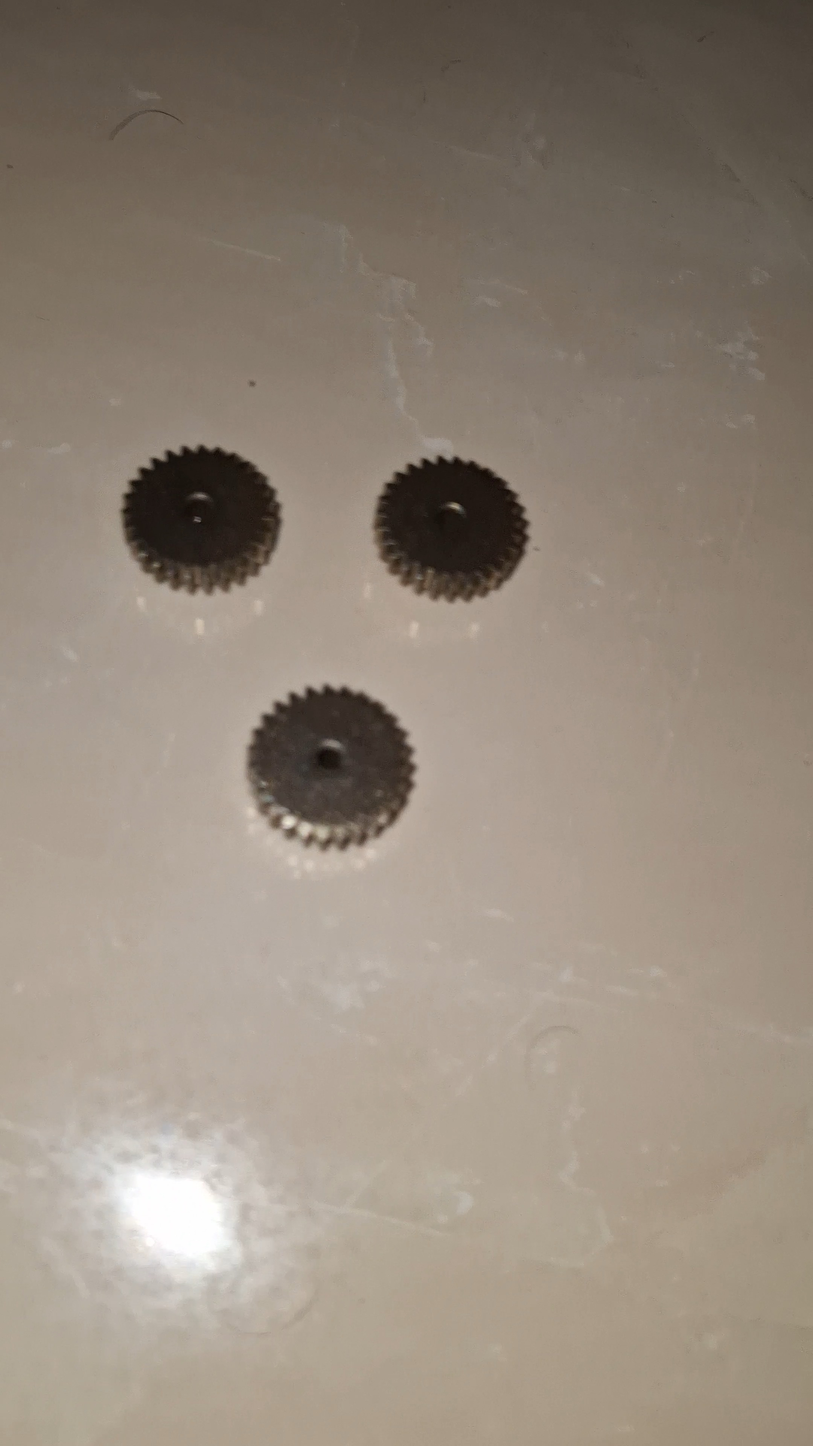spur gear: (248, 687, 414, 848), (124, 447, 280, 592), (374, 458, 527, 600)
